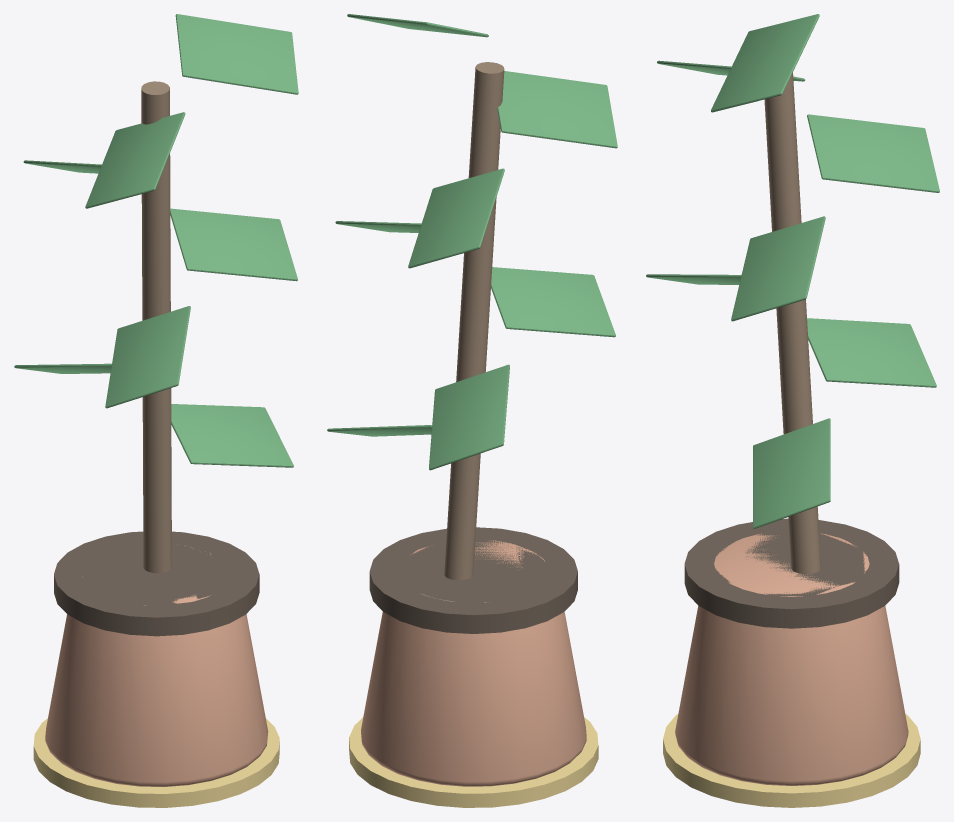
Rendered from potted-fiddle-leaf-fig.glb.
3 views of the same model, side by side, from view 1: azimuth 30°, elevation 25°; view 2: azimuth 150°, elevation 25°; view 3: azimuth 270°, elevation 25° (orthographic). The views are drawn at different scales.
Visible parts, largest first — view 1: fig_TerracottaPot, fig_SoilBed, fig_TreeTrunk, fig_FiddleLeaf_6, fig_FiddleLeaf_3, fig_BrassTrivet, fig_FiddleLeaf_0, fig_FiddleLeaf_2, fig_FiddleLeaf_5, fig_FiddleLeaf_1, fig_FiddleLeaf_4; view 2: fig_TerracottaPot, fig_SoilBed, fig_TreeTrunk, fig_FiddleLeaf_5, fig_FiddleLeaf_2, fig_BrassTrivet, fig_FiddleLeaf_1, fig_FiddleLeaf_4, fig_FiddleLeaf_6, fig_FiddleLeaf_0, fig_FiddleLeaf_3; view 3: fig_TerracottaPot, fig_SoilBed, fig_TreeTrunk, fig_FiddleLeaf_4, fig_FiddleLeaf_1, fig_BrassTrivet, fig_FiddleLeaf_0, fig_FiddleLeaf_3, fig_FiddleLeaf_6, fig_FiddleLeaf_2, fig_FiddleLeaf_5.
Part boxes in pixels (x1,y1,x2,y2): fig_TerracottaPot: [45, 545, 268, 786]; fig_SoilBed: [54, 531, 259, 636]; fig_TreeTrunk: [141, 81, 171, 573]; fig_FiddleLeaf_6: [175, 14, 298, 94]; fig_FiddleLeaf_3: [170, 208, 297, 281]; fig_BrassTrivet: [33, 718, 279, 807]; fig_FiddleLeaf_0: [171, 404, 293, 467]; fig_FiddleLeaf_2: [105, 306, 190, 408]; fig_FiddleLeaf_5: [85, 112, 185, 208]; fig_FiddleLeaf_1: [14, 363, 111, 373]; fig_FiddleLeaf_4: [23, 160, 101, 173]; fig_TerracottaPot: [361, 540, 586, 786]; fig_SoilBed: [369, 527, 577, 633]; fig_TreeTrunk: [444, 62, 504, 580]; fig_FiddleLeaf_5: [497, 71, 617, 148]; fig_FiddleLeaf_2: [491, 267, 615, 337]; fig_BrassTrivet: [349, 717, 598, 807]; fig_FiddleLeaf_1: [429, 364, 509, 470]; fig_FiddleLeaf_4: [408, 168, 504, 268]; fig_FiddleLeaf_6: [347, 14, 488, 37]; fig_FiddleLeaf_0: [327, 425, 432, 436]; fig_FiddleLeaf_3: [335, 221, 421, 232]; fig_TerracottaPot: [675, 533, 908, 785]; fig_SoilBed: [684, 518, 899, 628]; fig_TreeTrunk: [764, 72, 821, 574]; fig_FiddleLeaf_4: [807, 114, 939, 192]; fig_FiddleLeaf_1: [807, 318, 936, 387]; fig_BrassTrivet: [663, 714, 920, 807]; fig_FiddleLeaf_0: [753, 418, 830, 528]; fig_FiddleLeaf_3: [731, 216, 825, 321]; fig_FiddleLeaf_6: [711, 14, 819, 112]; fig_FiddleLeaf_2: [646, 274, 741, 284]; fig_FiddleLeaf_5: [657, 60, 805, 81].
Size of the model in its own units: 0.532 by 1.55 by 0.5476.
